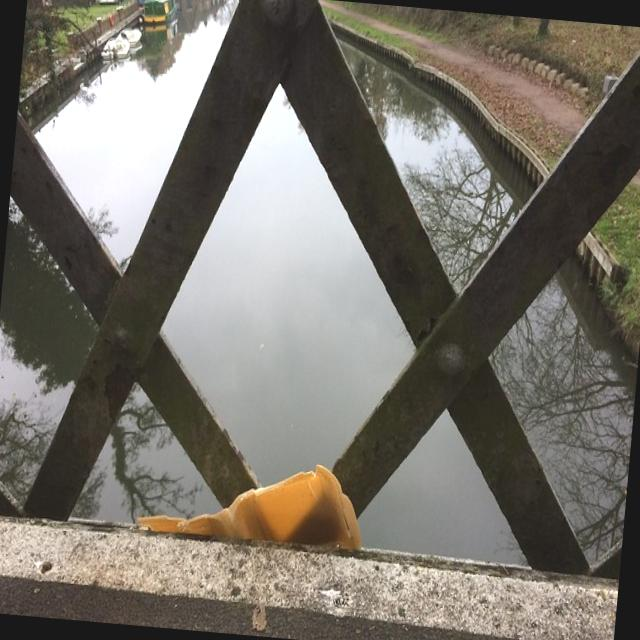Trash: (134, 448, 370, 552)
